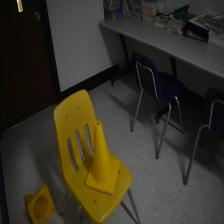cone: (84, 120, 120, 195), (23, 183, 56, 224)
